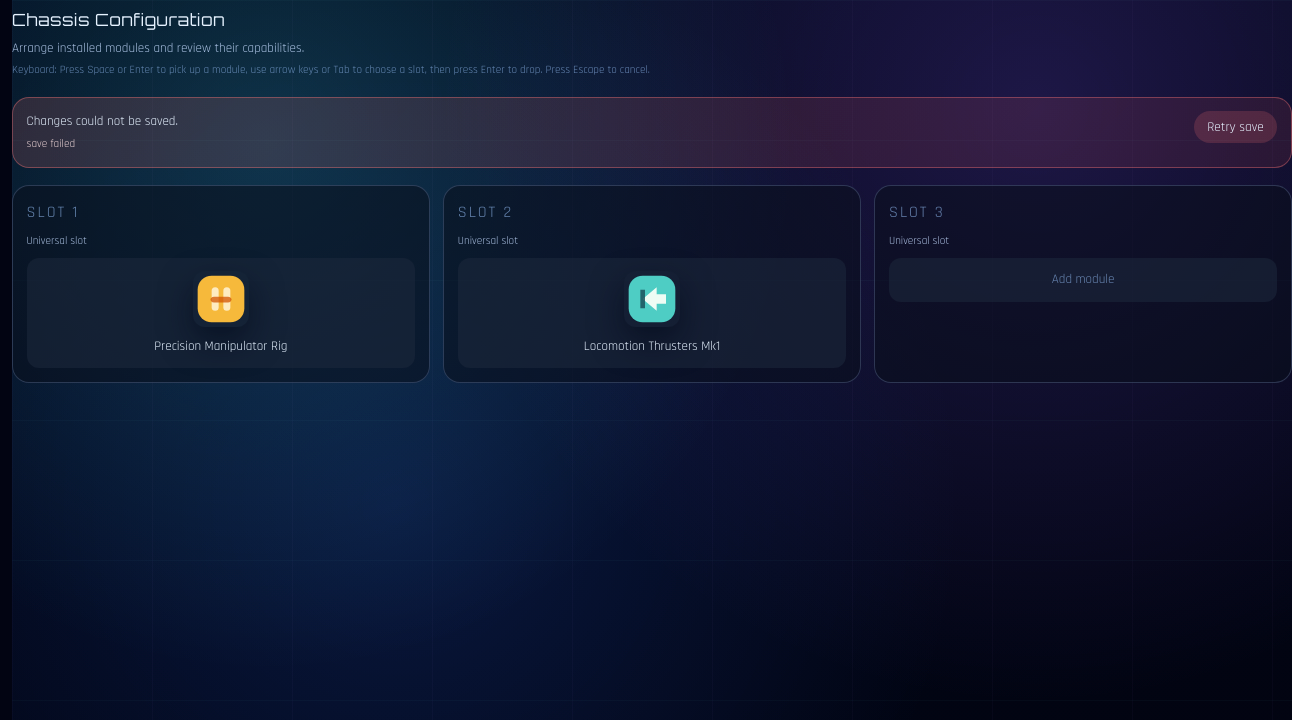
it: ChassisInspector › displays inline retry controls when persistence fails and reapplies edits on retry
Expected: the message with test id "chassis-persistence-error" shows "Changes could not be saved.", x1=27 y1=113 x2=178 y2=130
Expected: the message with test id "chassis-persistence-error" shows "save failed", x1=27 y1=137 x2=75 y2=151
Click the button "Retry save". click: (1235, 127)
box: x1=1194 y1=111 x2=1277 y2=143
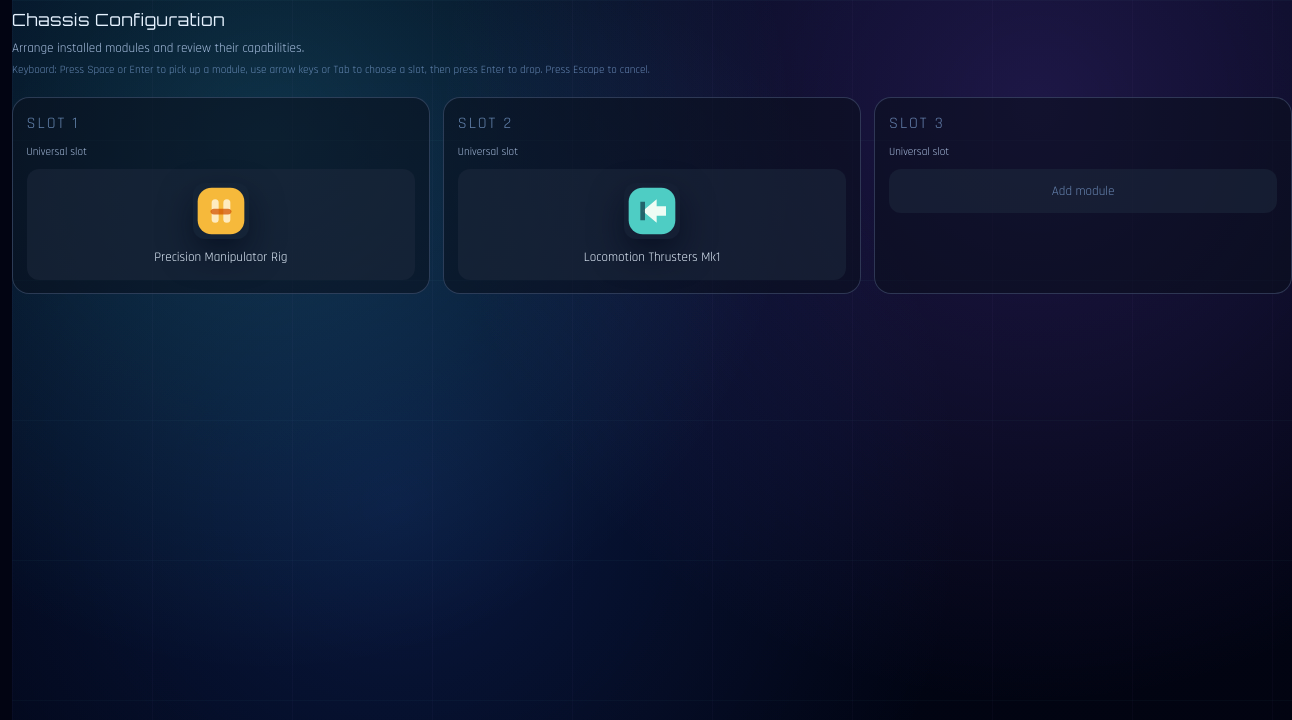
Expected: the element with test id "chassis-slot-core-0" shows "Precision Manipulator Rig", x1=27 y1=169 x2=415 y2=280
Now the message with test id "chassis-persistence-error" is gone
